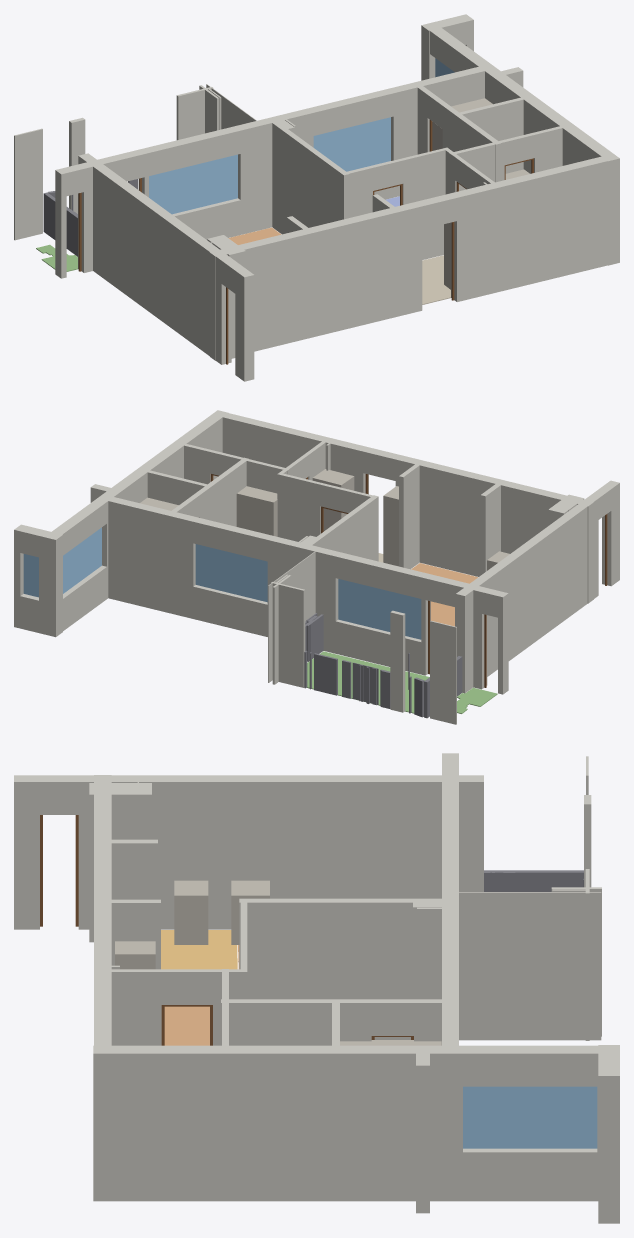
The picture shows the model from 3 angles, top to bottom: view 1: azimuth 30°, elevation 25°; view 2: azimuth 150°, elevation 25°; view 3: azimuth 270°, elevation 25°; orthographic projection. The views are drawn at different scales.
Visible parts, largest first — view 1: walls, window_3, window_0, railings, floor_2_Entry, furniture_1_closet; view 2: walls, railings, window_3, window_0, furniture_2_closet, window_8, floor_7_Outdoor, furniture_3_closet, floor_0_Living_Room, furniture_4_closet, window_11, floor_8_Outdoor; view 3: walls, window_8, floor_1_Kitchen, furniture_8_appliance, railings, floor_0_Living_Room, furniture_3_closet, furniture_5_appliance, door_10.
Boxes of the visible parts, bbox=[...] form: walls: bbox=[14, 14, 619, 381]; window_3: bbox=[149, 154, 237, 214]; window_0: bbox=[313, 117, 390, 171]; railings: bbox=[43, 179, 137, 256]; floor_2_Entry: bbox=[422, 255, 450, 304]; furniture_1_closet: bbox=[432, 98, 492, 150]; walls: bbox=[14, 410, 619, 724]; railings: bbox=[304, 613, 462, 718]; window_3: bbox=[338, 579, 421, 639]; window_0: bbox=[195, 544, 267, 602]; furniture_2_closet: bbox=[236, 486, 277, 536]; window_8: bbox=[63, 527, 101, 593]; floor_7_Outdoor: bbox=[307, 651, 429, 713]; furniture_3_closet: bbox=[383, 486, 398, 566]; floor_0_Living_Room: bbox=[411, 563, 477, 626]; furniture_4_closet: bbox=[312, 469, 354, 531]; window_11: bbox=[23, 554, 38, 597]; floor_8_Outdoor: bbox=[457, 687, 497, 713]; walls: bbox=[14, 753, 619, 1223]; window_8: bbox=[463, 1086, 597, 1148]; floor_1_Kitchen: bbox=[161, 930, 237, 969]; furniture_8_appliance: bbox=[174, 880, 208, 944]; railings: bbox=[484, 870, 583, 891]; floor_0_Living_Room: bbox=[164, 945, 239, 1045]; furniture_3_closet: bbox=[115, 941, 155, 969]; furniture_5_appliance: bbox=[231, 880, 269, 944]; door_10: bbox=[40, 815, 78, 926].
Size of the model in its own units: 12.67 by 2.72 by 10.04.
